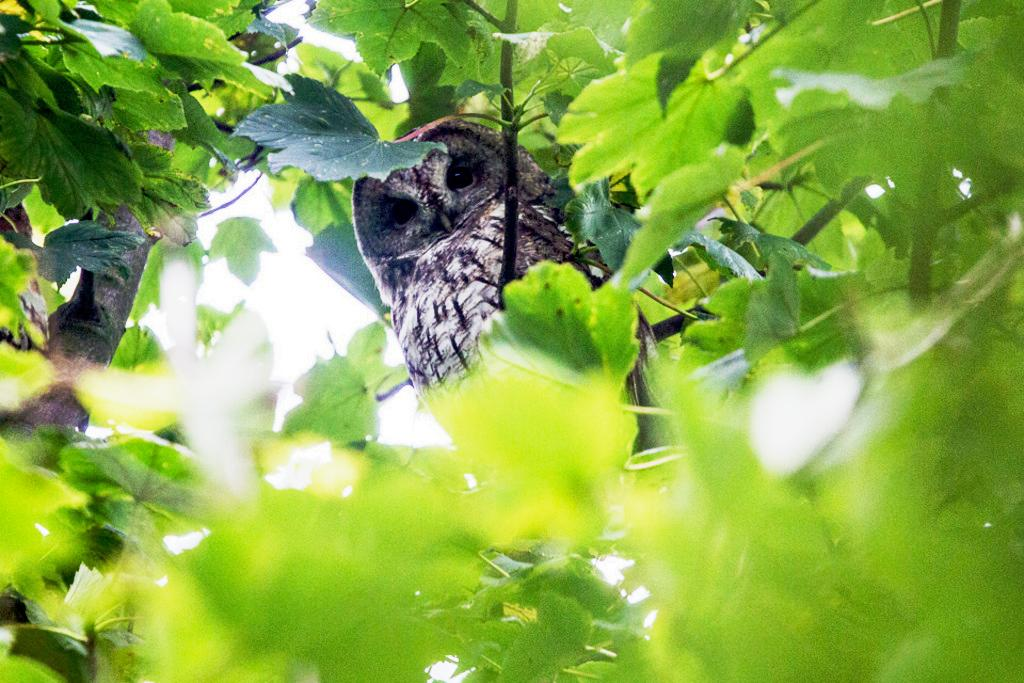Owl: (346, 118, 682, 498)
